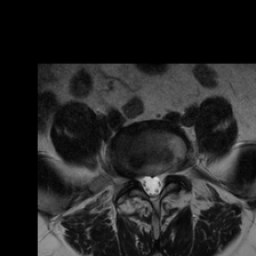CCS_normal: (147, 167, 154, 201)
LFS_stenosis: (163, 162, 171, 185)
LLS_normal: (155, 168, 163, 195)
RFS_severe_stenosis: (127, 171, 137, 188)
RLS_normal: (137, 168, 146, 194)
